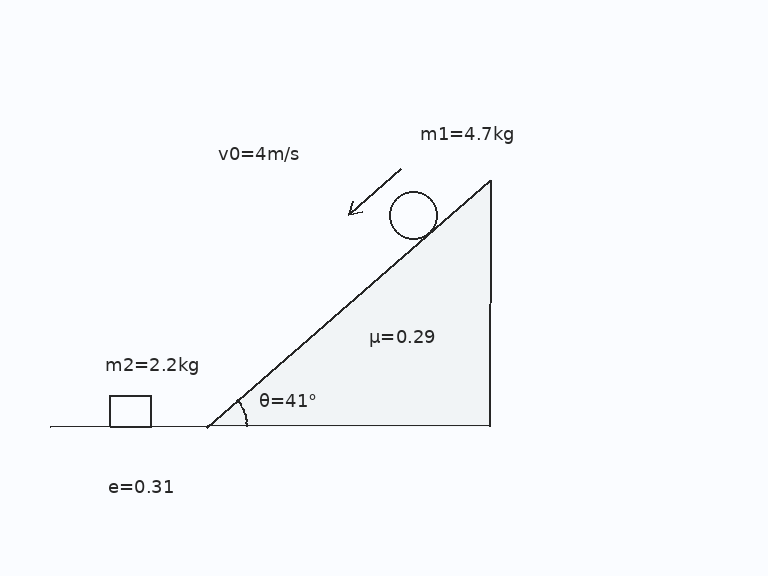ball: (387, 189, 439, 241)
block: (107, 393, 153, 428)
ramp: (205, 178, 492, 428)
